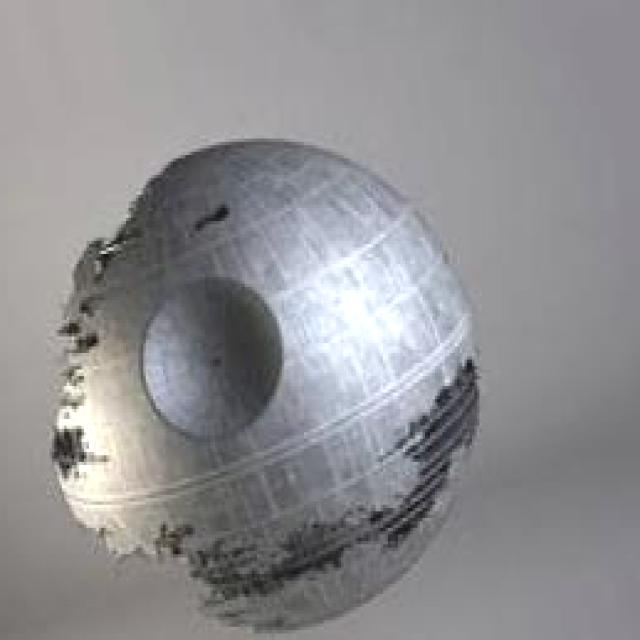deathstar: (45, 133, 487, 640)
